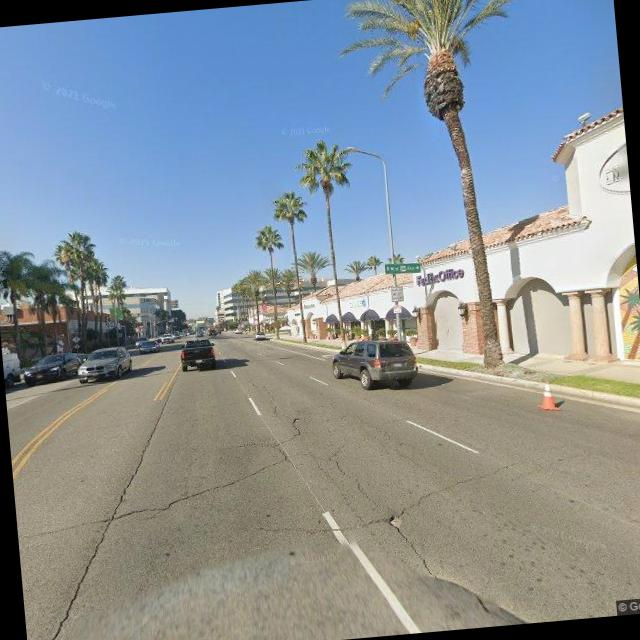crack: (326, 432, 487, 618), (13, 456, 296, 543), (248, 466, 514, 542)
